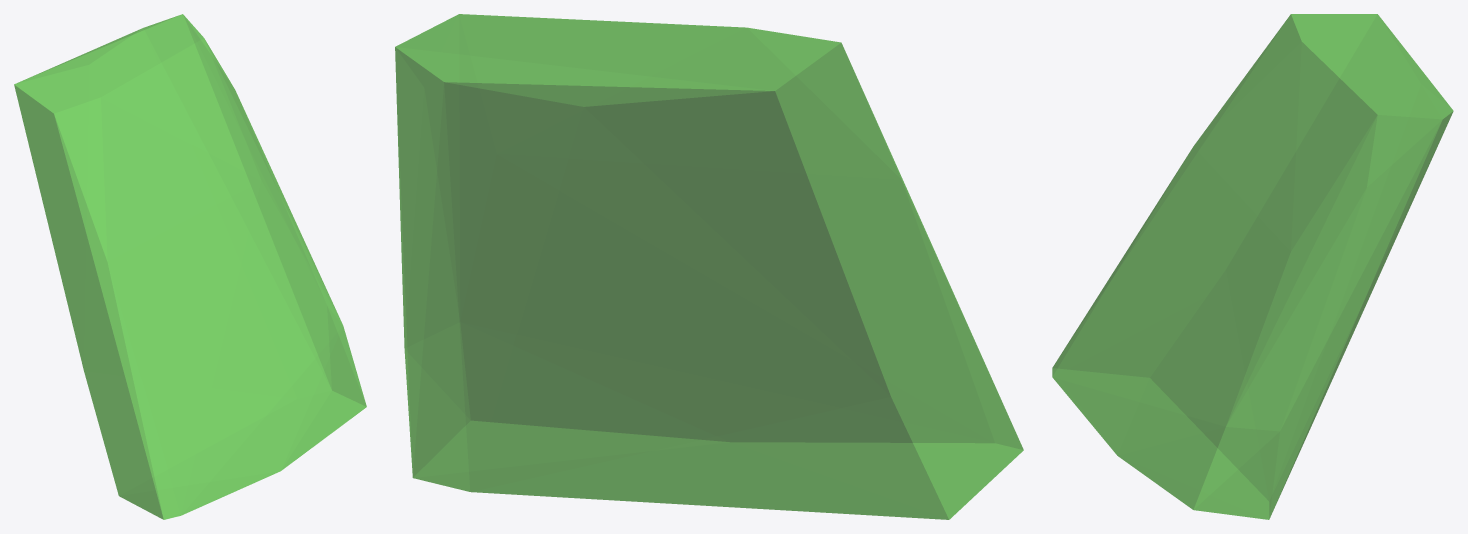
The picture shows the model from 3 angles, left to right: view 1: azimuth 30°, elevation 25°; view 2: azimuth 150°, elevation 25°; view 3: azimuth 270°, elevation 25°; orthographic projection. The views are drawn at different scales.
Visible parts, largest first — view 1: Shape_IndexedFaceSet.014_Shape_IndexedFaceSet.5453; view 2: Shape_IndexedFaceSet.014_Shape_IndexedFaceSet.5453; view 3: Shape_IndexedFaceSet.014_Shape_IndexedFaceSet.5453.
Boxes of the visible parts, left/top/right/bottom form: Shape_IndexedFaceSet.014_Shape_IndexedFaceSet.5453: left=14, top=14, right=366, bottom=519; Shape_IndexedFaceSet.014_Shape_IndexedFaceSet.5453: left=395, top=14, right=1023, bottom=519; Shape_IndexedFaceSet.014_Shape_IndexedFaceSet.5453: left=1052, top=14, right=1453, bottom=519.
Bounding box in the file's own units: 0.0139 × 0.0167 × 0.0167.
